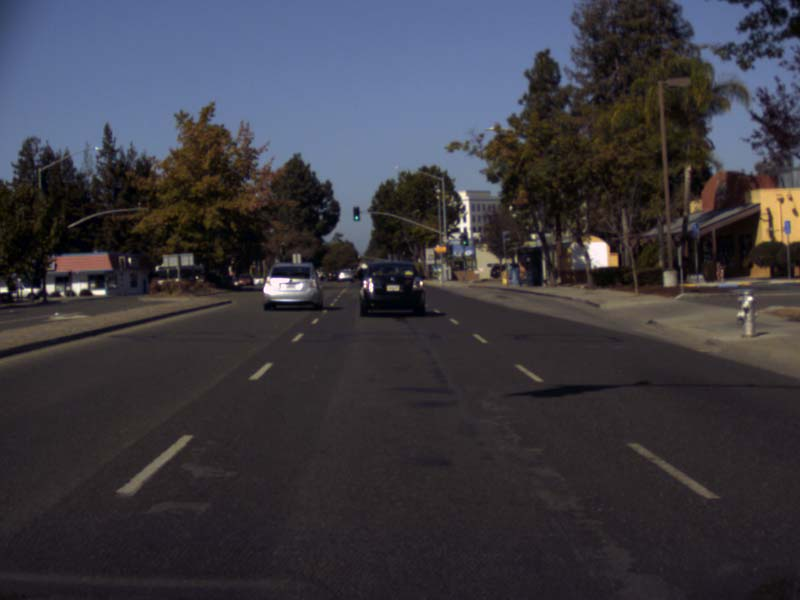Green: (353, 207, 359, 221), (461, 234, 467, 246)
